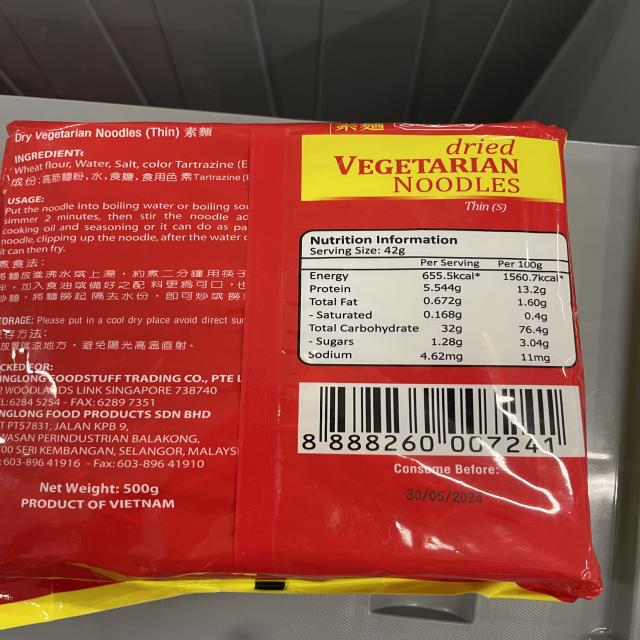object_name: (11, 124, 584, 595)
